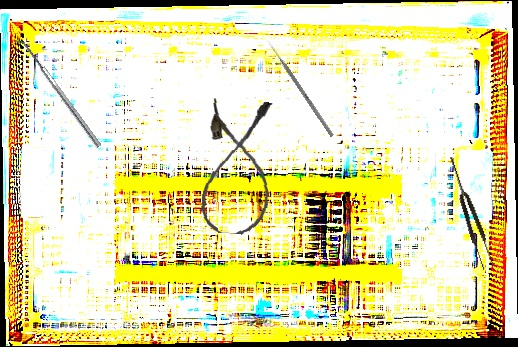Cannula: (199, 97, 277, 237)
Pusher: (265, 38, 335, 138)
Spatula Surgical: (13, 35, 102, 152)
Tissue Forceps: (445, 154, 495, 271)
